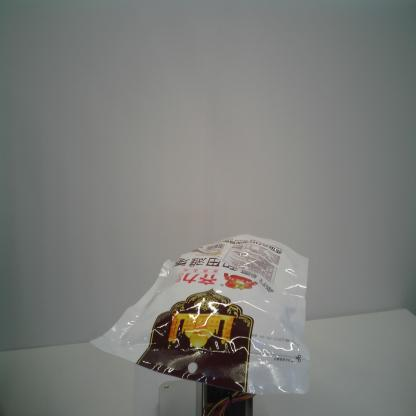Dried Food: (88, 230, 310, 398)
